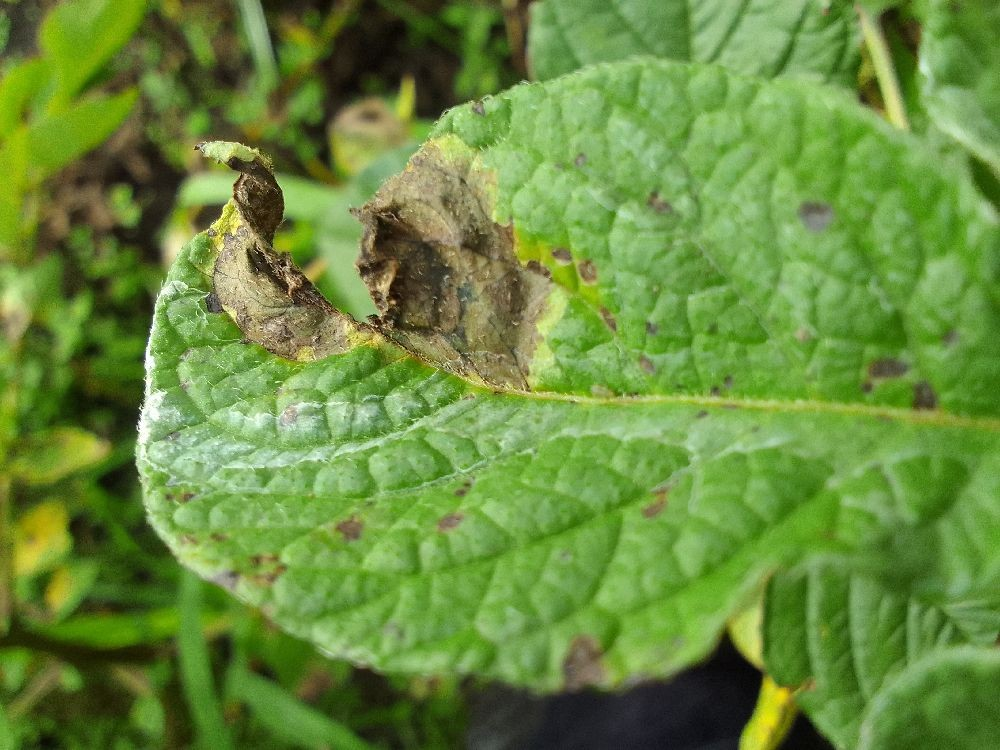late_blight: (19, 0, 614, 410), (0, 547, 202, 746), (276, 642, 462, 731)
